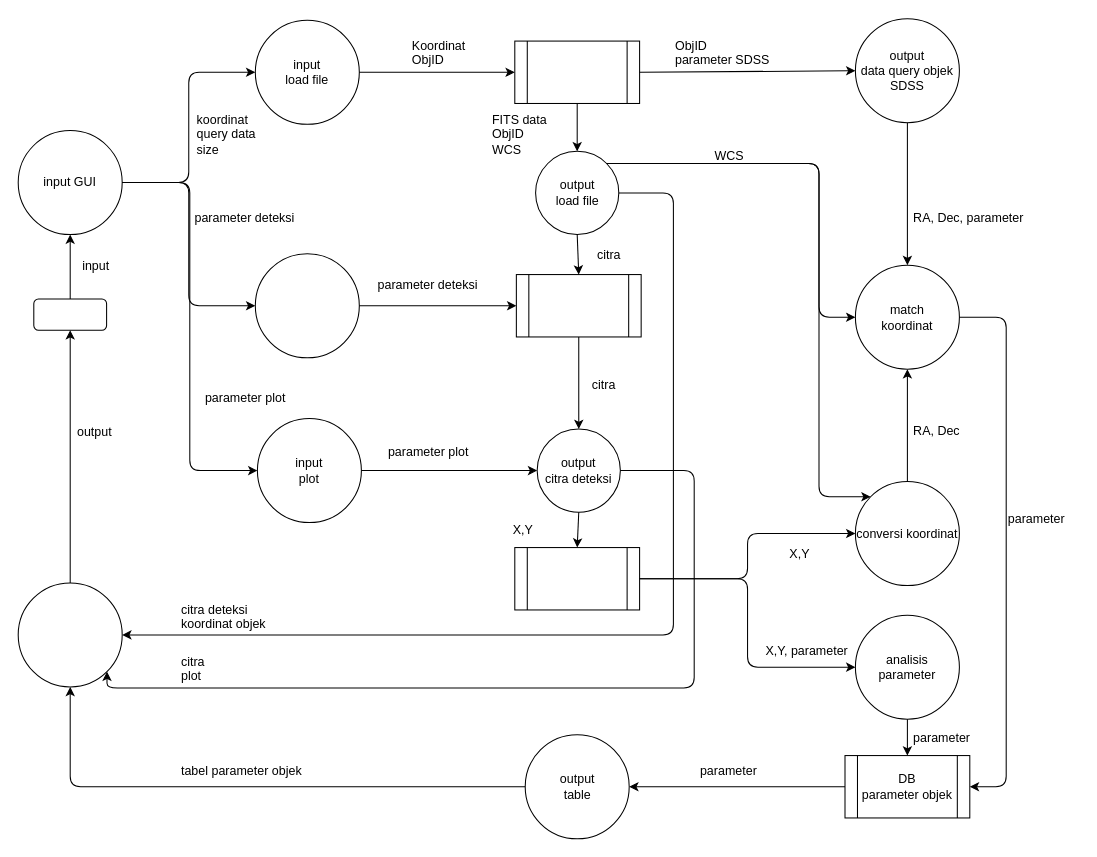
The diagram is 1097 pixels wide and 857 high, and some of its shapes have lost their labels. The shapes that lost their labels are listed below. From the top down, each one's box as (x1, y1, x2, y2) in pixels, then its label:
(514, 40, 640, 103): DB SDSS
(33, 298, 107, 330): user
(254, 253, 359, 358): input parameter
(515, 274, 641, 337): DB image
(514, 547, 640, 610): DB koordinat objek
(17, 582, 122, 687): output GUI
